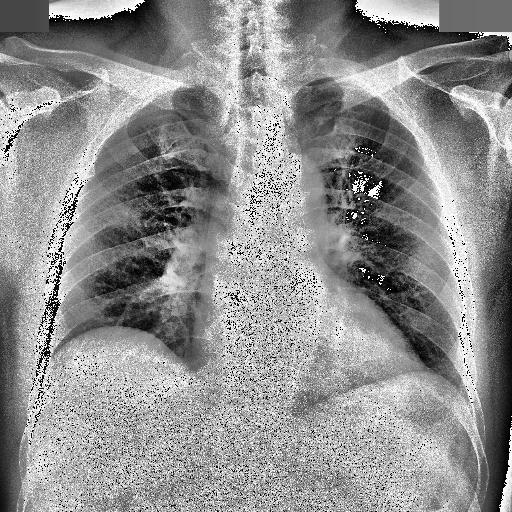0- Aortic enlargement: (254, 152, 324, 233), (262, 154, 326, 238), (272, 154, 325, 218)
3- Cardiomegaly: (186, 313, 424, 399), (188, 319, 428, 368)
